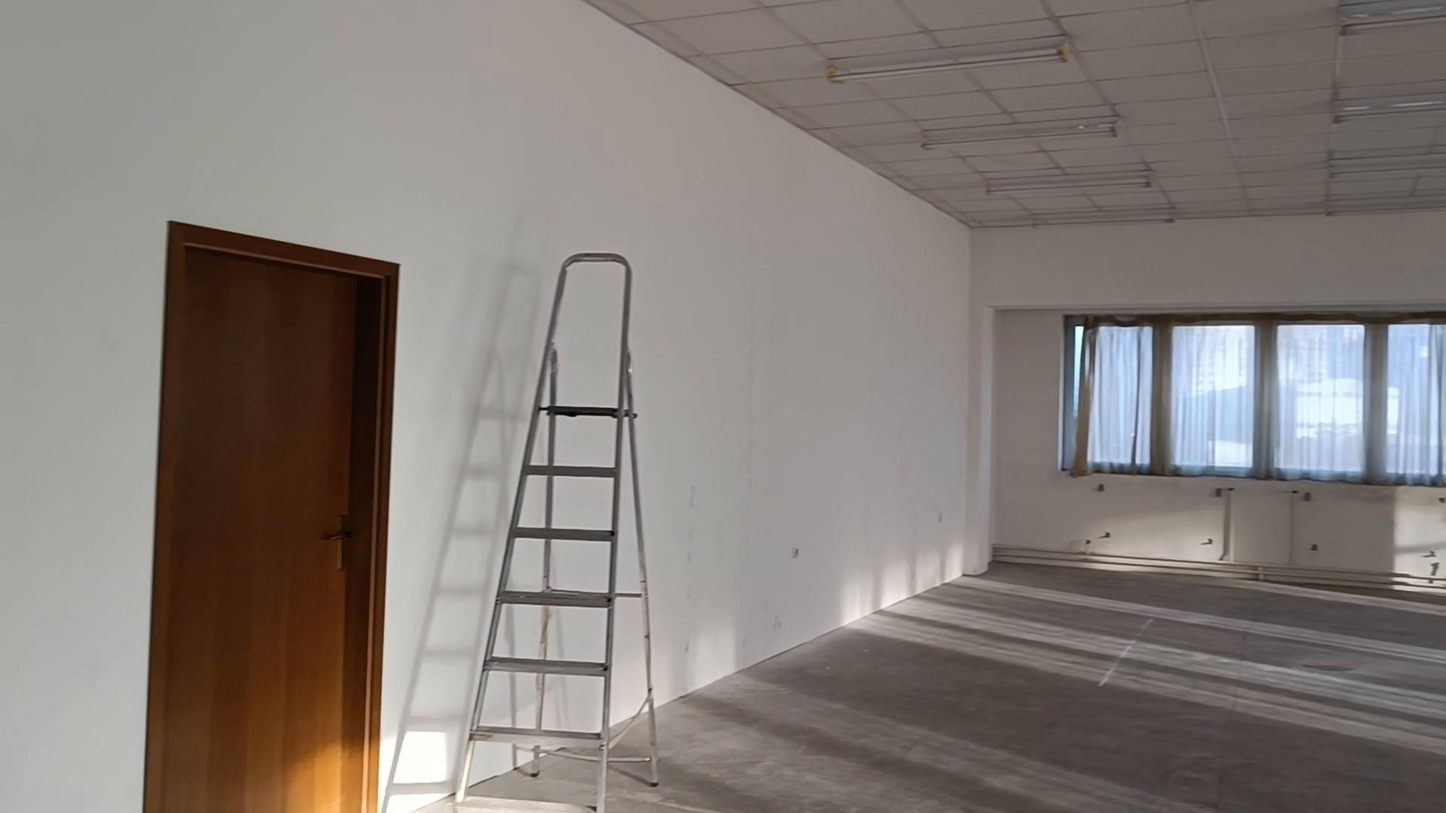ceiling: (586, 0, 1445, 227)
floor: (609, 562, 1445, 812)
wall: (0, 0, 1445, 810), (993, 316, 1437, 577)
